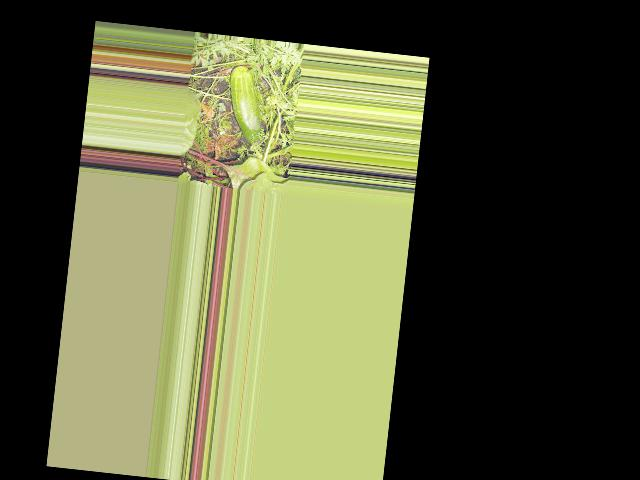cucumber: (223, 66, 269, 145)
